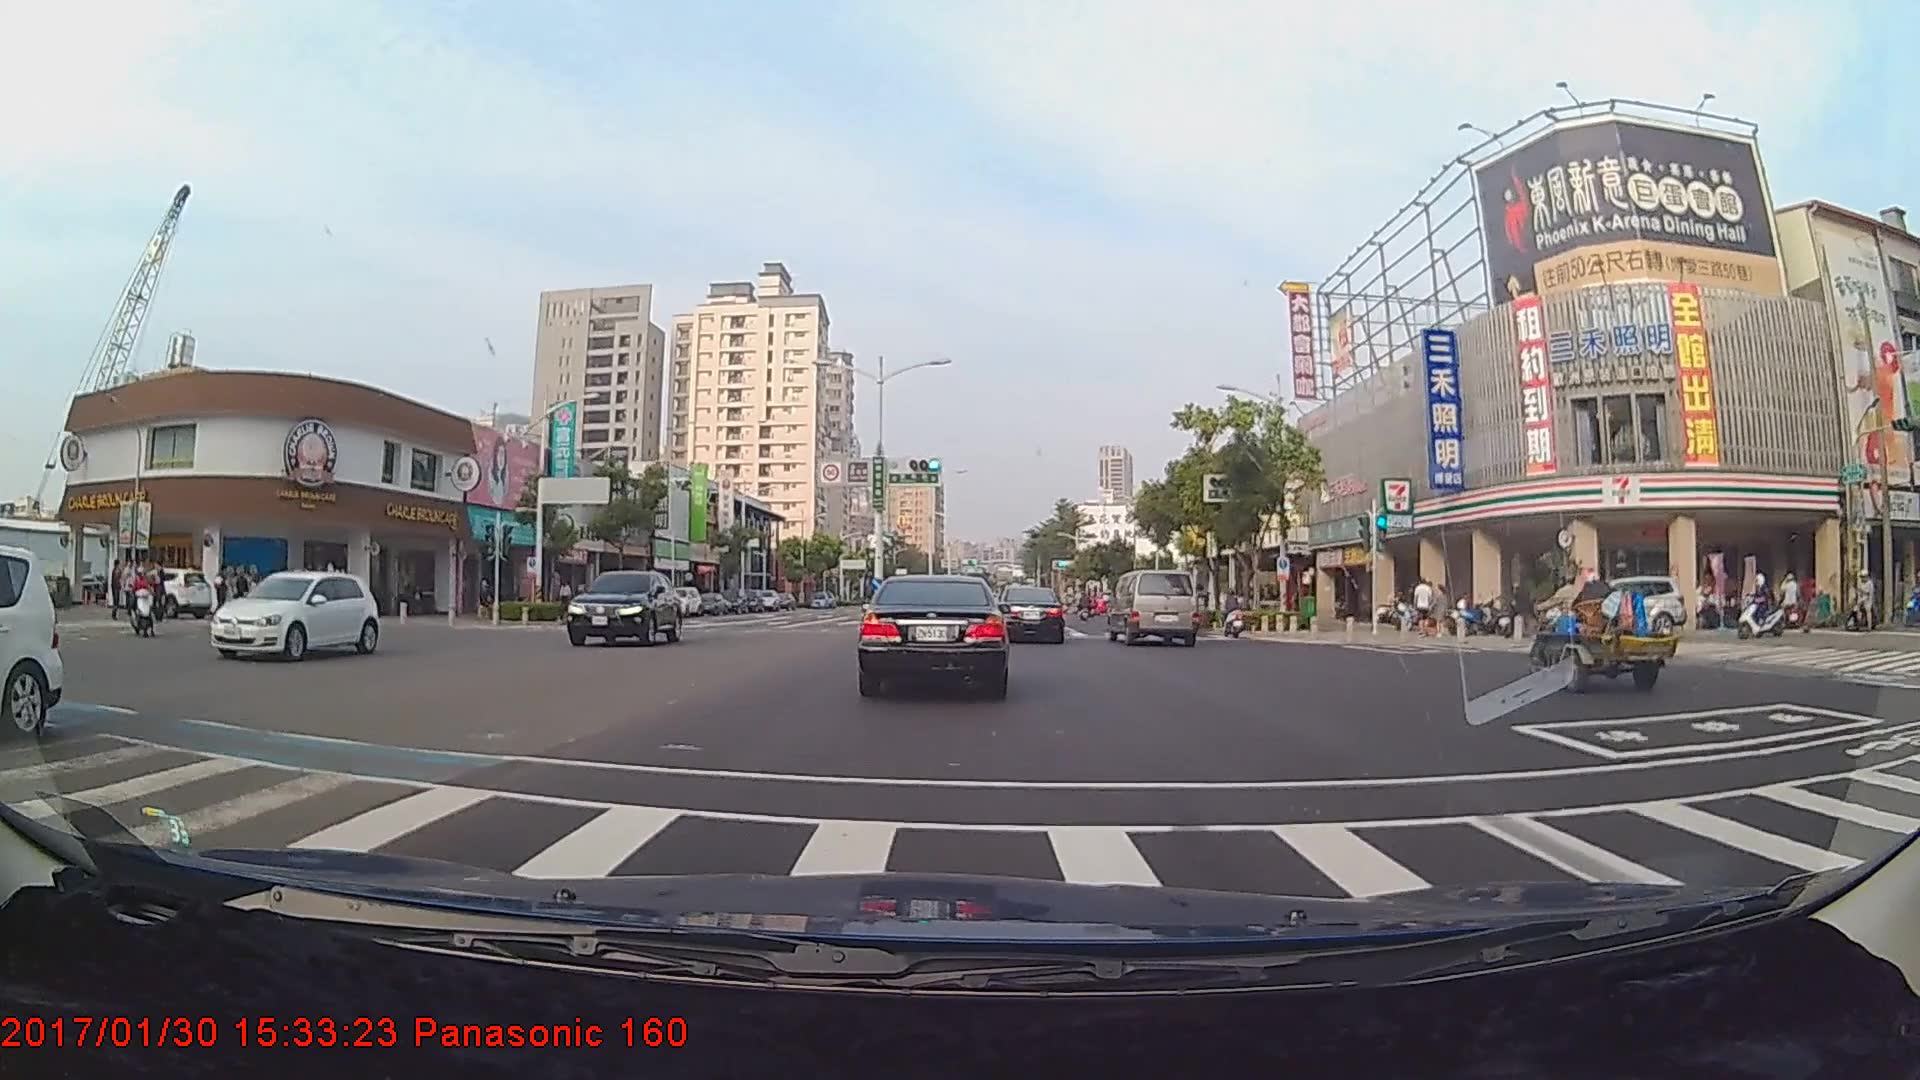pedestrian: (1413, 576, 1435, 637)
rider: (1733, 570, 1794, 644), (121, 561, 164, 637), (1216, 585, 1256, 641)
vehicle: (858, 569, 1009, 698), (208, 568, 382, 664), (0, 542, 61, 743), (1533, 574, 1685, 639), (568, 569, 682, 647), (1109, 568, 1198, 647), (995, 585, 1065, 643)
